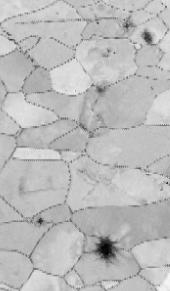good_void: (90, 229, 125, 262), (119, 13, 139, 35), (83, 125, 101, 142), (140, 27, 156, 46), (101, 45, 118, 61), (88, 80, 107, 94), (158, 177, 170, 193), (34, 213, 46, 229), (77, 166, 91, 179), (92, 18, 102, 28)
